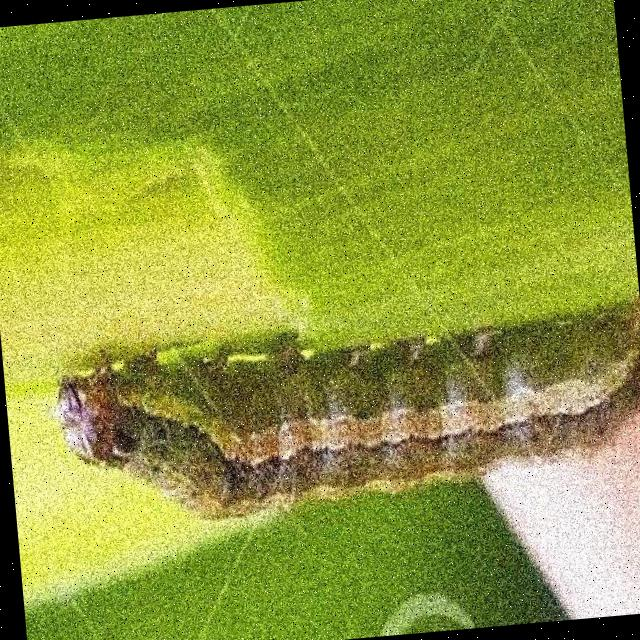worm: (50, 298, 640, 539)
